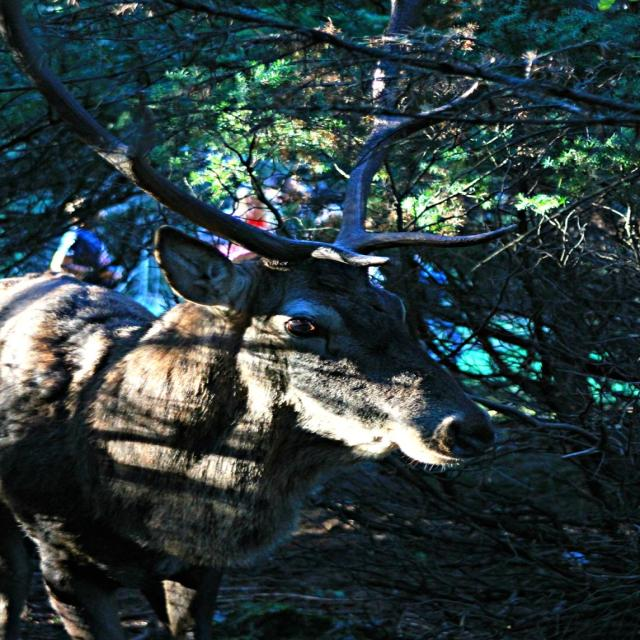Deer: (0, 8, 529, 636)
